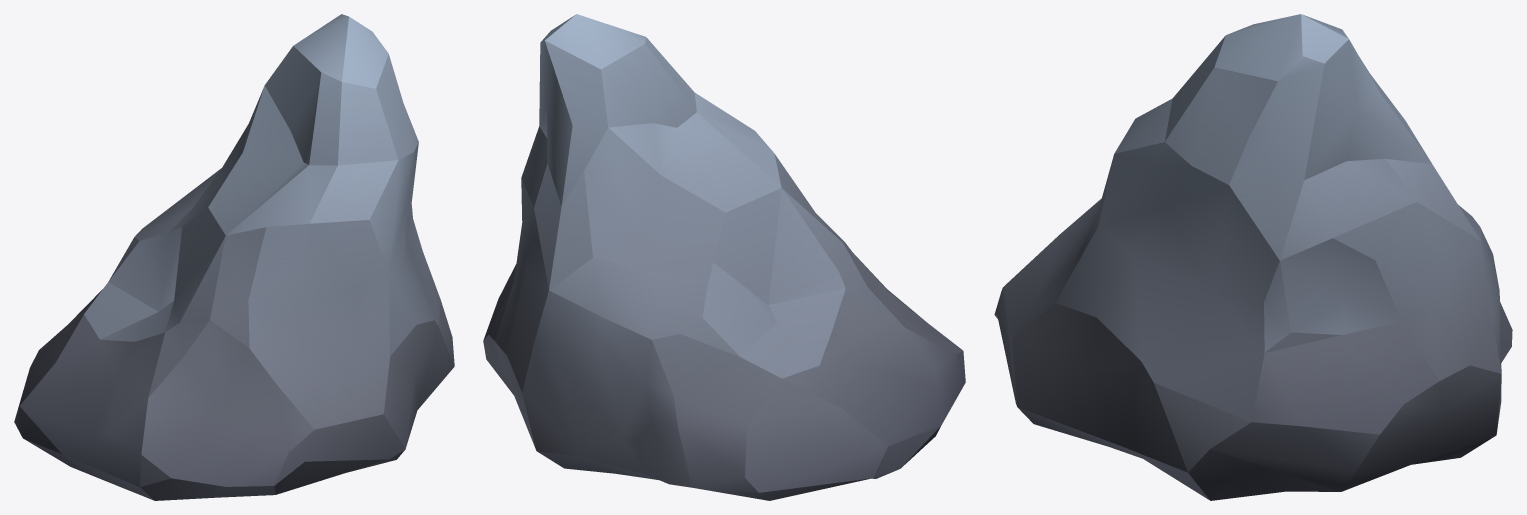
Rendered from SM_Rock_07.fbx.
3 views of the same model, side by side, from view 1: azimuth 30°, elevation 25°; view 2: azimuth 150°, elevation 25°; view 3: azimuth 270°, elevation 25° (orthographic). The views are drawn at different scales.
Parts seen in each view (by area): view 1: Rock.006; view 2: Rock.006; view 3: Rock.006.
Part boxes in pixels (<box>): Rock.006: <box>14,14,454,500</box>; Rock.006: <box>483,14,965,500</box>; Rock.006: <box>994,14,1512,500</box>.
Bounding box in the file's own units: 445 × 410 × 403.
